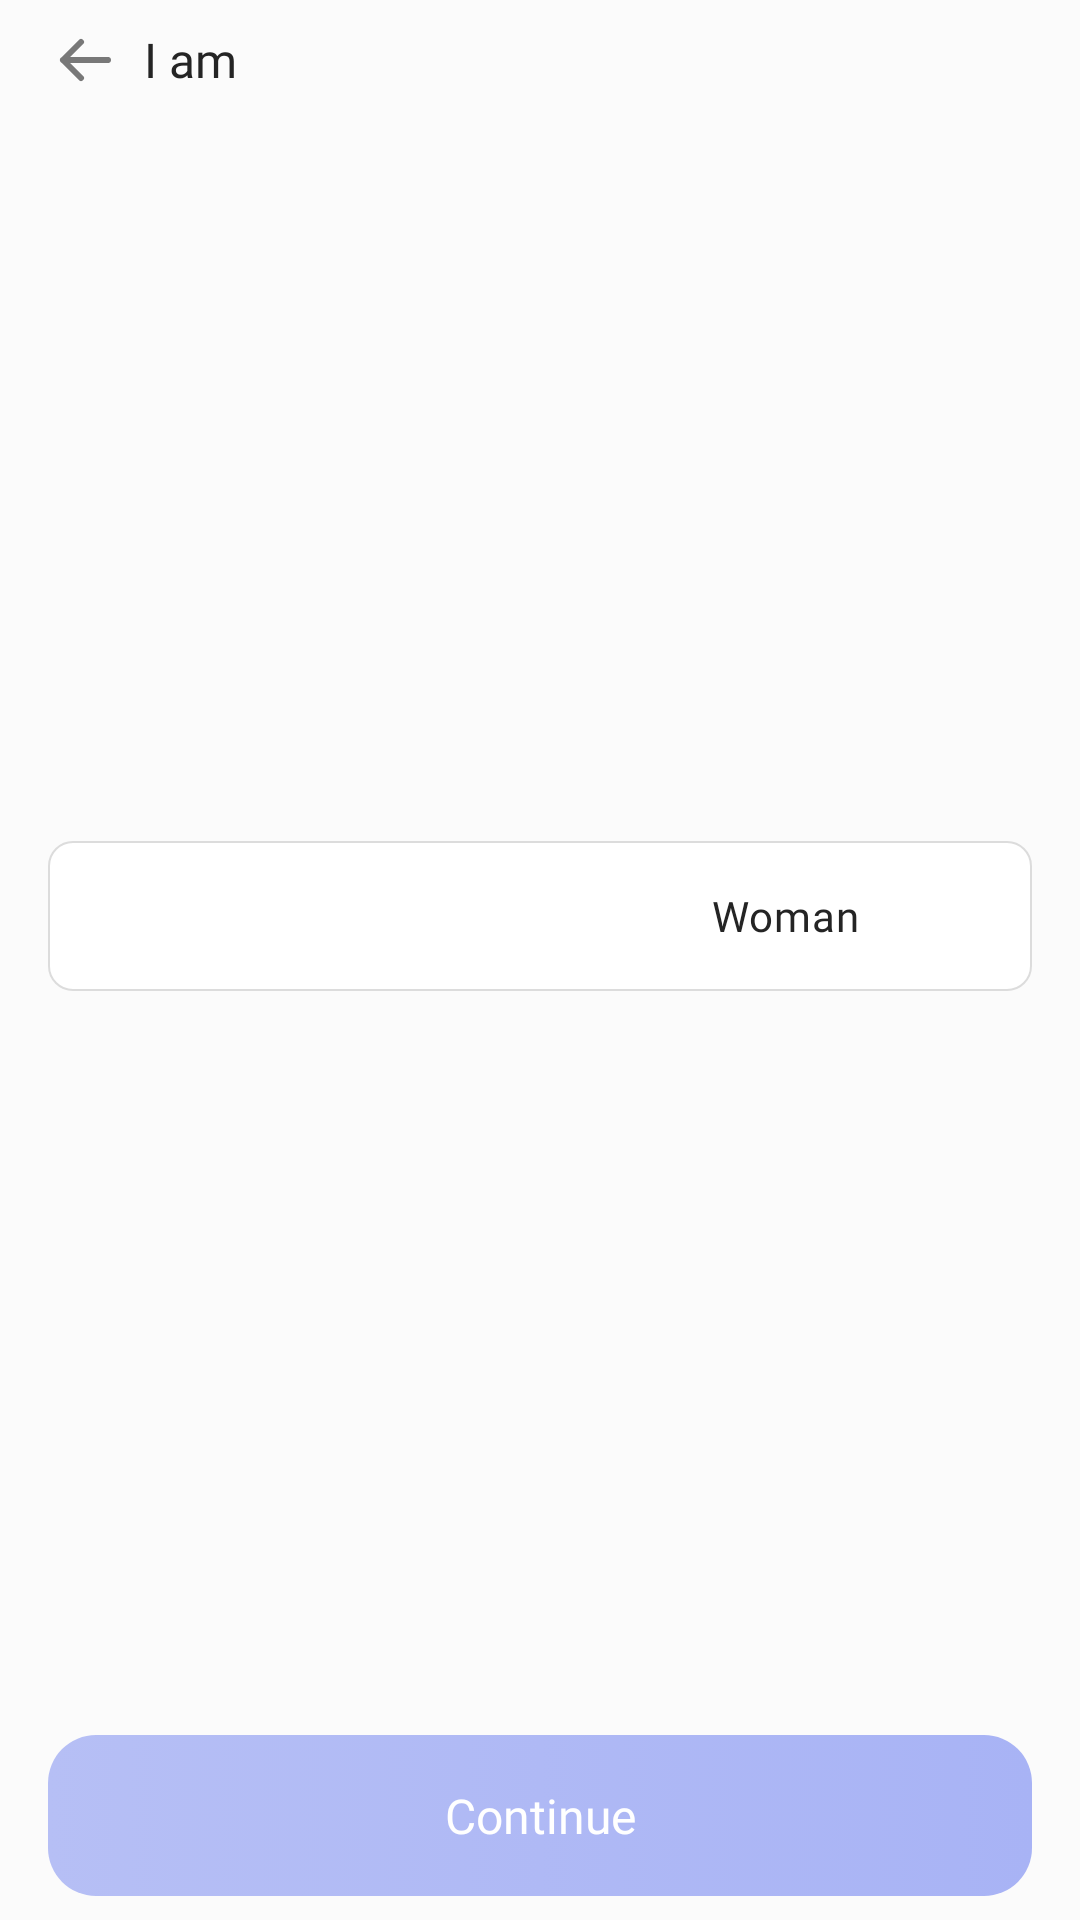

Where icons sit on this 1080*1920 app screen, as (x1, y1, x2, y2):
Back: (60, 39, 111, 81)
